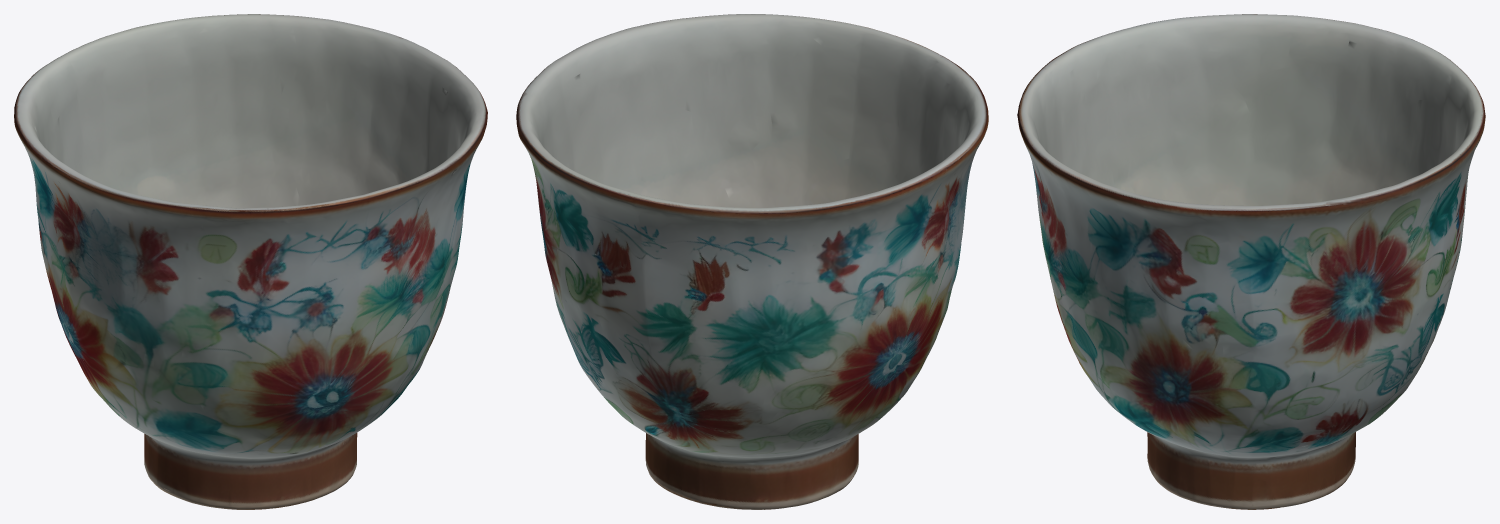
Rendered from romantex_5.glb.
3 renders of one model, left to right at view 1: azimuth 30°, elevation 25°; view 2: azimuth 150°, elevation 25°; view 3: azimuth 270°, elevation 25°, orthographic.
Visible parts, largest first — view 1: texture_v130_hdr_21w_pbr_dino_11w.001; view 2: texture_v130_hdr_21w_pbr_dino_11w.001; view 3: texture_v130_hdr_21w_pbr_dino_11w.001.
Boxes of the visible parts, x1,y1,x2,y2 form: texture_v130_hdr_21w_pbr_dino_11w.001: (14,14,487,509); texture_v130_hdr_21w_pbr_dino_11w.001: (516,14,988,509); texture_v130_hdr_21w_pbr_dino_11w.001: (1017,14,1485,509).
Size of the model in its own units: 2 by 1.67 by 2.
Materials: 1 (1 with a texture image).
